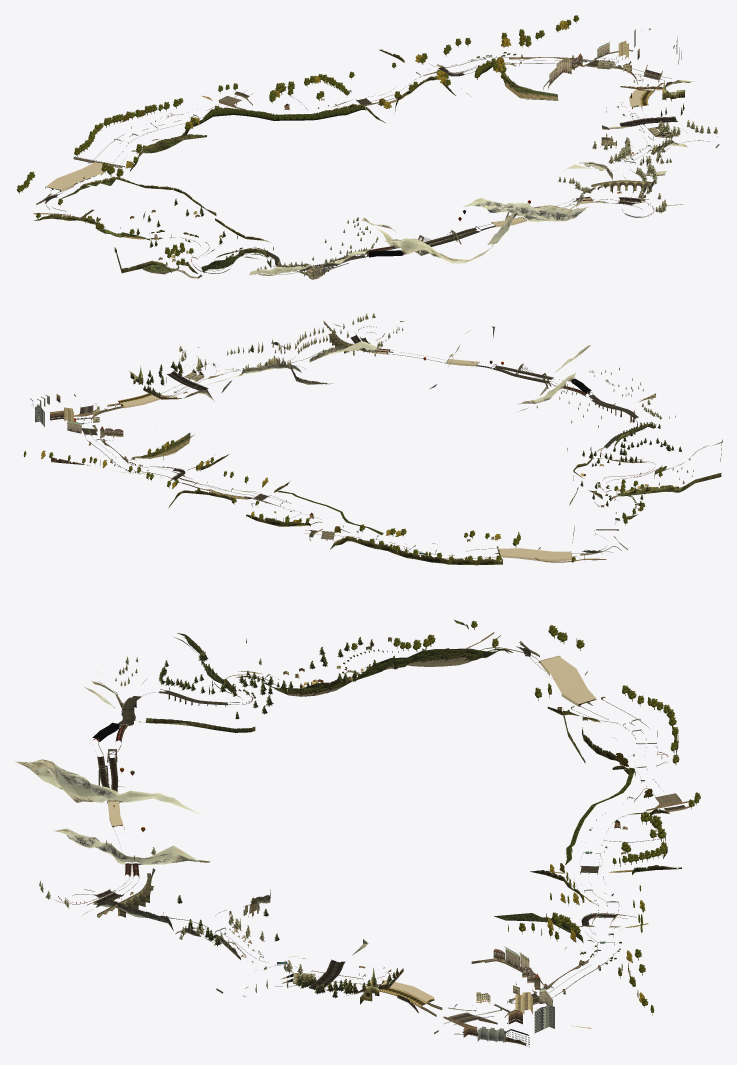
The model's file is track-EU_C2_V1.glb.
The picture shows the model from 3 angles, top to bottom: view 1: azimuth 30°, elevation 25°; view 2: azimuth 150°, elevation 25°; view 3: azimuth 270°, elevation 25°; orthographic projection. The views are drawn at different scales.
Parts seen in each view (by area): view 1: EU_C2_V1; view 2: EU_C2_V1; view 3: EU_C2_V1.
Boxes of the visible parts, x1=… form: EU_C2_V1: x1=16, y1=15, x2=719, y2=279; EU_C2_V1: x1=23, y1=313, x2=722, y2=565; EU_C2_V1: x1=14, y1=620, x2=700, y2=1047.
Size of the model in its own units: 3064 by 266 by 2168.
Materials: 133 (132 with a texture image).
